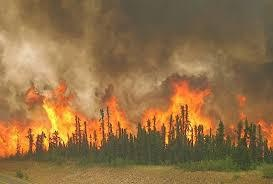fire: (0, 72, 238, 149), (223, 98, 272, 152)
